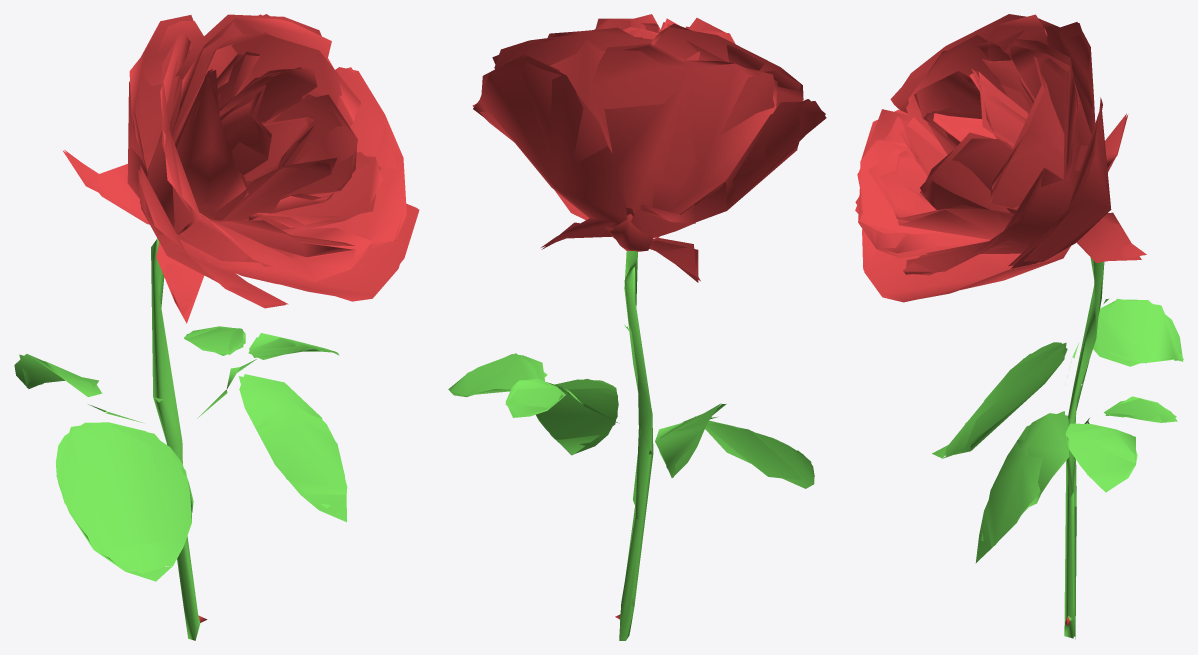
Rendered from Flor_Benarraba.fbx.
The picture shows the model from 3 angles, left to right: view 1: azimuth 30°, elevation 25°; view 2: azimuth 150°, elevation 25°; view 3: azimuth 270°, elevation 25°; orthographic projection. The views are drawn at different scales.
Parts seen in each view (by area): view 1: root; view 2: root; view 3: root.
Boxes of the visible parts, x1,y1,x2,y2 form: root: (14, 14, 419, 640); root: (448, 14, 826, 640); root: (855, 14, 1183, 639).
Bounding box in the file's own units: 8.32 × 15.18 × 7.42.
